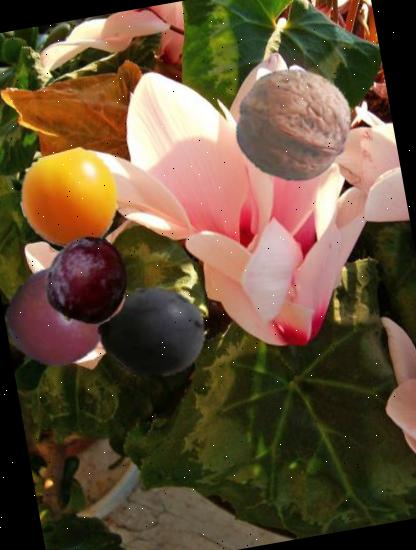Cherry: (13, 144, 126, 256)
Clementine: (50, 249, 132, 331)
Plum: (86, 268, 215, 397), (36, 228, 140, 332)
Pomegranate: (0, 250, 122, 376)
Walnut: (226, 57, 360, 191)
